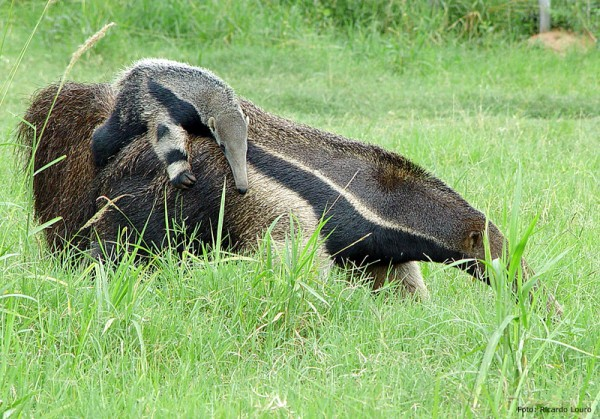TamanduaBandeira: (28, 78, 574, 334), (86, 54, 255, 197)
